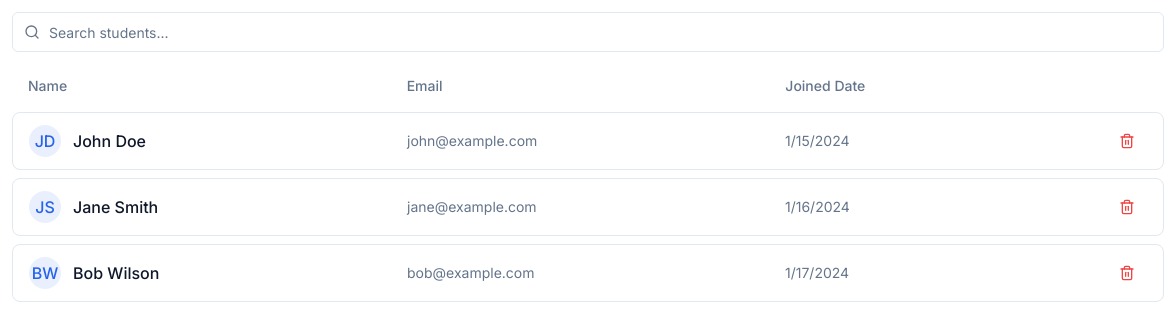
StudentList › shows empty state when no students match search
This screenshot has width=1176, height=319.
Type "NonExistent" into the field with placeholder "Search students..." at (588, 32), box 12,12 -> 1164,52
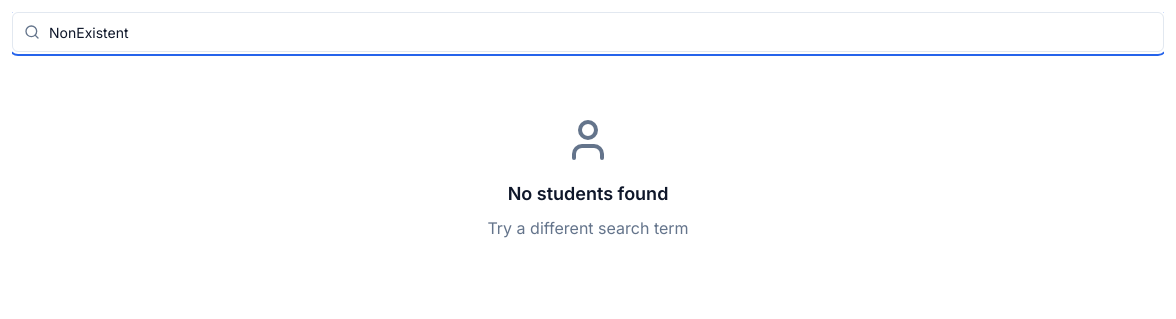
Expected: the heading "No students found" is shown, 508,183 -> 668,204
